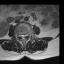CCS_normal: (22, 32, 24, 40)
LFS_normal: (25, 33, 27, 38)
LLS_normal: (24, 33, 25, 39)
RFS_normal: (18, 33, 20, 38)
RLS_normal: (20, 33, 22, 39)
